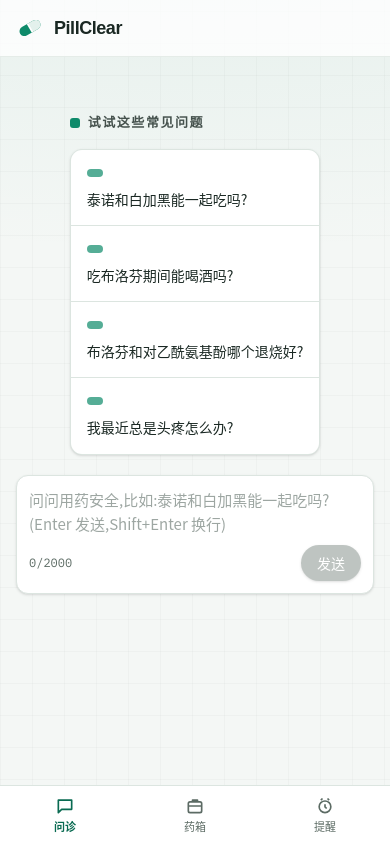
Scenario: 底部 tab 可在视图间切换
Click the link "药箱".
click(195, 814)  # box [184,796,206,834]
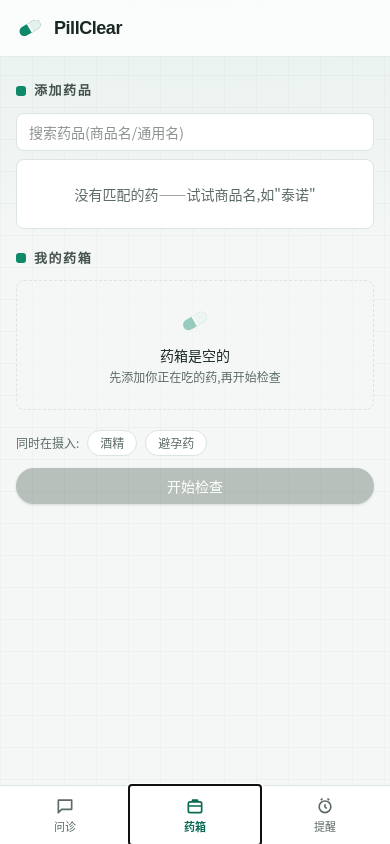
Now the heading "添加药品" is shown, box [16,83,92,98]
